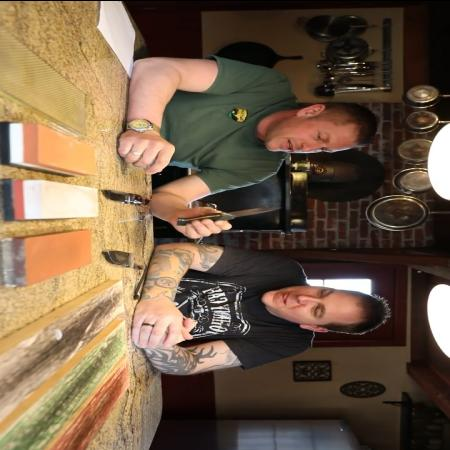long weapon: (182, 201, 294, 235)
